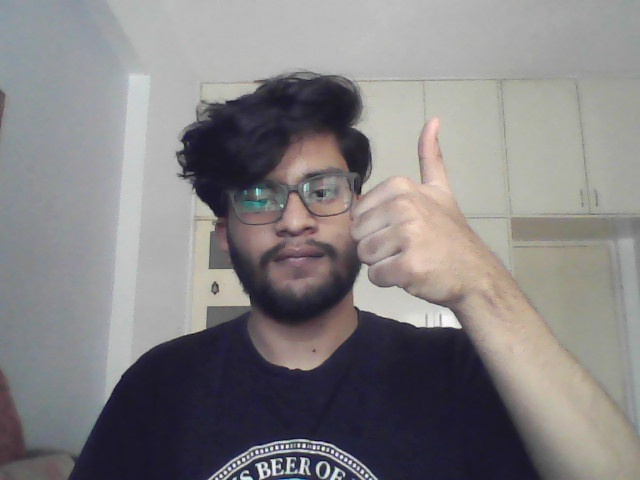Thumbsup: (348, 115, 495, 304)
